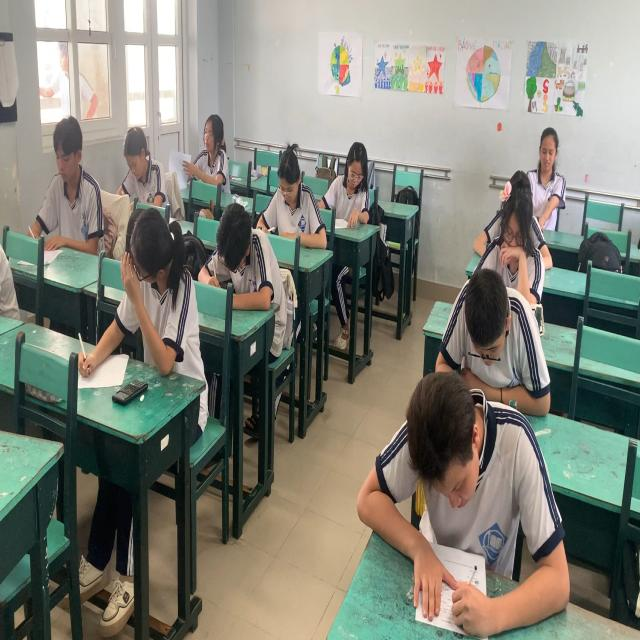cheating: (100, 205, 204, 411)
not_cheating: (378, 323, 545, 555), (443, 253, 529, 391), (39, 110, 108, 260), (211, 194, 291, 316), (180, 94, 239, 213), (487, 168, 540, 293), (527, 117, 576, 237), (116, 111, 171, 214), (332, 124, 373, 238), (266, 140, 311, 239)
